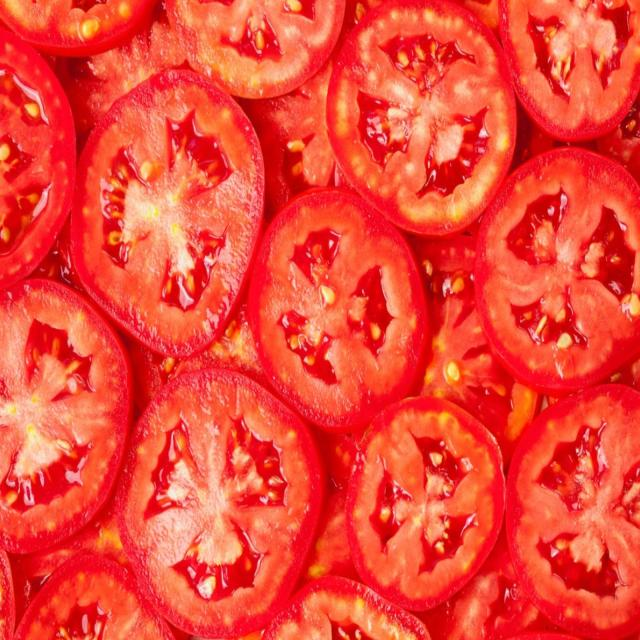Tomato: (72, 60, 258, 360), (119, 364, 325, 626), (330, 12, 525, 224), (253, 183, 428, 414), (474, 141, 632, 392), (0, 282, 133, 554), (348, 404, 512, 620), (509, 387, 640, 627), (163, 0, 347, 104), (0, 30, 70, 271), (13, 557, 165, 640)
